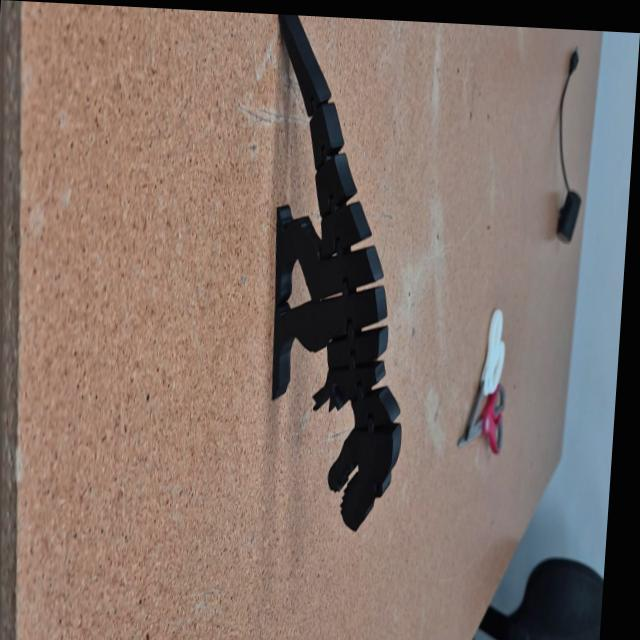dino: (241, 15, 429, 537)
